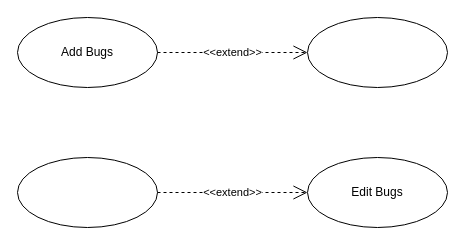
Some shapes in this 465 by 245 pixel diagram are drawn without their labels. The shapes that lost their labels are listed below. From the top down, each one's box as (x1, y1, x2, y2) in pixels, then its label:
(306, 16, 448, 88): Assign Tickets
(16, 156, 158, 228): View Bugs
